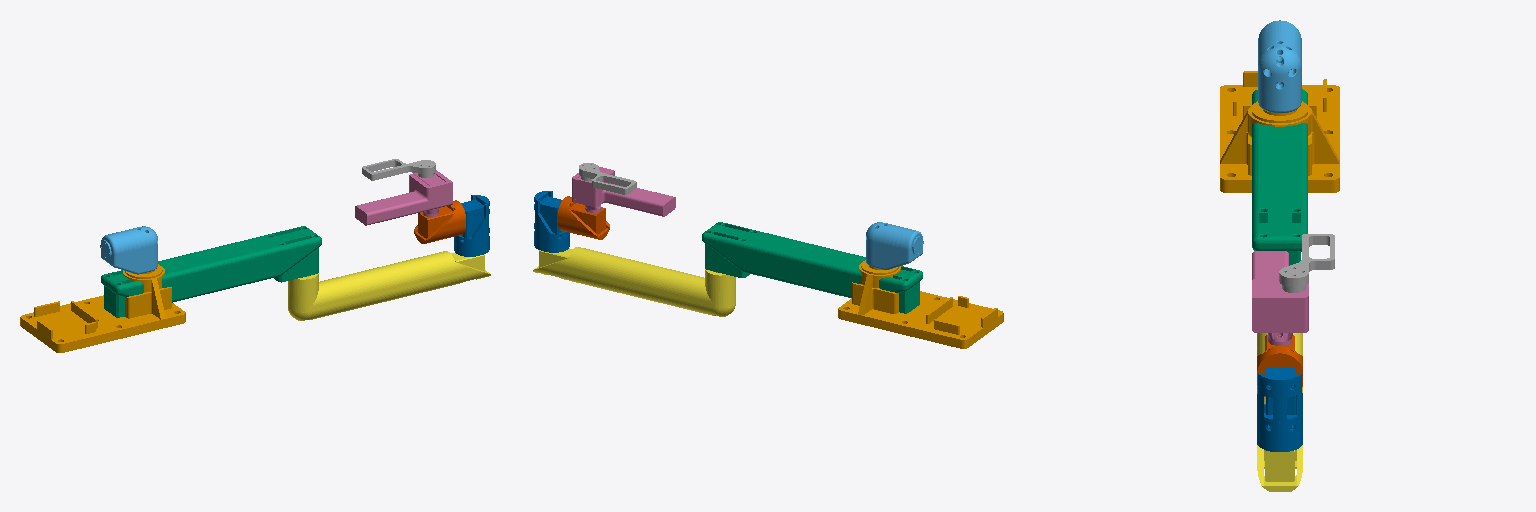
robot.urdf — GELLO_Assembly_URDF_V4:
<?xml version='1.0' encoding='utf-8'?>
<robot name="GELLO_Assembly_URDF_V4">
    <link name="base_link">
        <inertial>
            <origin xyz="0.012101145839417736 4.5485259978825654e-05 0.012837746339482453" rpy="0.0 0.0 0.0" />
            <mass value="0.1521" />
            <inertia ixx="0.000787615441049584" iyy="0.0026373975037422373" izz="0.0030248527508061783" ixy="2.843446005017187e-06" iyz="-1.23281289165201e-07" ixz="-0.0003208037873725998" />
        </inertial>
        <visual name="base_link_visual">
            <origin xyz="0.0 0.0 0.0" rpy="0.0 0.0 0.0" />
            <geometry>
                <mesh filename="meshes/base_link.stl" scale="0.001 0.001 0.001" />
            </geometry>
        </visual>
        <collision name="base_link_collision">
            <origin xyz="0.0 0.0 0.0" rpy="0.0 0.0 0.0" />
            <geometry>
                <mesh filename="meshes/base_link.stl" scale="0.001 0.001 0.001" />
            </geometry>
        </collision>
    </link>
    <link name="link_1">
        <inertial>
            <origin xyz="-0.013013992085734394 -2.9083198717770166e-09 0.037938028629702227" rpy="0.0 -0.0 0.0" />
            <mass value="0.01753" />
            <inertia ixx="2.082359703239737e-05" iyy="3.448540701715534e-05" izz="2.4147887405375526e-05" ixy="2.1787401641000033e-12" iyz="2.850834935600783e-12" ixz="5.385388631231556e-06" />
        </inertial>
        <visual name="link_1_visual">
            <origin xyz="0.0 -1.4901160552385793e-10 0.003000000000000016" rpy="0.0 0.0 3.141592653589793" />
            <geometry>
                <mesh filename="meshes/link_1.stl" scale="0.001 0.001 0.001" />
            </geometry>
        </visual>
        <collision name="link_1_collision">
            <origin xyz="0.0 -1.4901160552385793e-10 0.003000000000000016" rpy="0.0 0.0 3.141592653589793" />
            <geometry>
                <mesh filename="meshes/link_1.stl" scale="0.001 0.001 0.001" />
            </geometry>
        </collision>
    </link>
    <link name="link_2">
        <inertial>
            <origin xyz="0.018566 0.000228 0.106619" rpy="0.0 0.0 0.0" />
            <mass value="0.2561" />
            <inertia ixx="0.00072658" iyy="0.00072119" izz="0.00002389" ixy="3.0308e-11" iyz="7.4196e-10" ixz="8.4992e-09" />
        </inertial>
        <visual name="link_2_visual">
            <origin xyz="0.0 0.0 0.0" rpy="0.0 0.0 0.0" />
            <geometry>
                <mesh filename="meshes/link_2.stl" scale="0.001 0.001 0.001" />
            </geometry>
        </visual>
        <collision name="link_2_collision">
            <origin xyz="0.0 0.0 0.0" rpy="0.0 0.0 0.0" />
            <geometry>
                <mesh filename="meshes/link_2.stl" scale="0.001 0.001 0.001" />
            </geometry>
        </collision>
    </link>
    <link name="link_3">
        <inertial>
            <origin xyz="0.03498 0.00004 0.09722" rpy="0.0 -0.0 0.0" />
            <mass value="0.1353" />
            <inertia ixx="4.9520295199053895e-05" iyy="0.0009354156941928371" izz="0.0009224302501060419" ixy="9.739796322637425e-12" iyz="4.64531374715958e-12" ixz="4.658704784609412e-05" />
        </inertial>
        <visual name="link_3_visual">
            <origin xyz="-0.015499997823088344 -1.7002665094779935e-09 -0.0029875020980838093" rpy="-3.141592653589793 -1.5707963267948515 0" />
            <geometry>
                <mesh filename="meshes/link_3.stl" scale="0.001 0.001 0.001" />
            </geometry>
        </visual>
        <collision name="link_3_collision">
            <origin xyz="-0.015499997823088344 -1.7002665094779935e-09 -0.0029875020980838093" rpy="-3.141592653589793 -1.5707963267948515 0" />
            <geometry>
                <mesh filename="meshes/link_3.stl" scale="0.001 0.001 0.001" />
            </geometry>
        </collision>
    </link>
    <link name="link_4">
        <inertial>
            <origin xyz="-0.02792 0.00055 -0.00109" rpy="0.0 -0.0 0.0" />
            <mass value="0.0412" />
            <inertia ixx="8.049280542402338e-06" iyy="8.75573800759779e-06" izz="5.206051461461615e-06" ixy="-3.4985580162627234e-09" iyz="-6.68345152036845e-09" ixz="1.9006323134412092e-06" />
        </inertial>
        <visual name="link_4_visual">
            <origin xyz="2.2236167041000952e-09 1.0978169125673566e-09 -0.002999996757507506" rpy="3.141592653589793 0.0 -3.141592653589793" />
            <geometry>
                <mesh filename="meshes/link_4.stl" scale="0.001 0.001 0.001" />
            </geometry>
        </visual>
        <collision name="link_4_collision">
            <origin xyz="2.2236167041000952e-09 1.0978169125673566e-09 -0.002999996757507506" rpy="3.141592653589793 0.0 -3.141592653589793" />
            <geometry>
                <mesh filename="meshes/link_4.stl" scale="0.001 0.001 0.001" />
            </geometry>
        </collision>
    </link>
    <link name="link_5">
        <inertial>
            <origin xyz="-0.00091 -0.00014 -0.02400" rpy="0.0 -0.0 0.0" />
            <mass value="0.037" />
            <inertia ixx="3.884188355088219e-06" iyy="5.536825704307441e-06" izz="5.4132040911564205e-06" ixy="-7.289609411581798e-10" iyz="3.1536803261461124e-10" ixz="1.2484568117079393e-06" />
        </inertial>
        <visual name="link_5_visual">
            <origin xyz="-0.0029999977763846887 1.097816903963128e-09 2.512335690596501e-09" rpy="0.0 1.5707963267948966 0" />
            <geometry>
                <mesh filename="meshes/link_5.stl" scale="0.001 0.001 0.001" />
            </geometry>
        </visual>
        <collision name="link_5_collision">
            <origin xyz="-0.0029999977763846887 1.097816903963128e-09 2.512335690596501e-09" rpy="0.0 1.5707963267948966 0" />
            <geometry>
                <mesh filename="meshes/link_5.stl" scale="0.001 0.001 0.001" />
            </geometry>
        </collision>
    </link>
    <link name="link_6_handle">
        <inertial>
            <origin xyz="-0.02576 -0.00154 -0.01597" rpy="0.0 -0.0 0.0" />
            <mass value="0.0482" />
            <inertia ixx="7.78472573563041e-06" iyy="5.6204200329076914e-05" izz="5.8573253048420024e-05" ixy="3.184567679556454e-06" iyz="9.380338618386974e-08" ixz="1.924028926184084e-06" />
        </inertial>
        <visual name="link_6_handle_visual">
            <origin xyz="-0.009999998074407372 -0.001999999244909985 -0.027499997681379087" rpy="3.141592653589793 0.0 1.5707963267948968" />
            <geometry>
                <mesh filename="meshes/link_6_handle.stl" scale="0.001 0.001 0.001" />
            </geometry>
        </visual>
        <collision name="link_6_handle_collision">
            <origin xyz="-0.009999998074407372 -0.001999999244909985 -0.027499997681379087" rpy="3.141592653589793 0.0 1.5707963267948968" />
            <geometry>
                <mesh filename="meshes/link_6_handle.stl" scale="0.001 0.001 0.001" />
            </geometry>
        </collision>
    </link>
    <link name="link_7_trigger">
        <inertial>
            <origin xyz="-0.008247223911074358 0.0078024108281084 -0.02009706810131938" rpy="0.0 -0.0 0.0" />
            <mass value="0.01" />
            <inertia ixx="4.999616537776233e-06" iyy="4.199309723437305e-06" izz="8.93301210709044e-07" ixy="2.1985308491140646e-08" iyz="1.2021398752401404e-06" ixz="-5.662878198282135e-08" />
        </inertial>
        <visual name="link_7_trigger_visual">
            <origin xyz="-0.007999997681379174 -7.550898972752407e-10 1.9851977839380197e-09" rpy="1.5707963267948717 -1.5707963267948966 0" />
            <geometry>
                <mesh filename="meshes/link_7_trigger.stl" scale="0.001 0.001 0.001" />
            </geometry>
        </visual>
        <collision name="link_7_trigger_collision">
            <origin xyz="-0.007999997681379174 -7.550898972752407e-10 1.9851977839380197e-09" rpy="1.5707963267948717 -1.5707963267948966 0" />
            <geometry>
                <mesh filename="meshes/link_7_trigger.stl" scale="0.001 0.001 0.001" />
            </geometry>
        </collision>
    </link>
    <joint name="base_link_joint_1" type="revolute">
        <origin xyz="0.04725 0.0 0.033" rpy="0.0 -0.0 0.0" />
        <parent link="base_link" />
        <child link="link_1" />
        <axis xyz="0.0 0.0 1.0" />
        <limit lower="-3.14159" upper="3.14159" effort="1.0" velocity="10" />
    </joint>
    <joint name="link_2_joint_2" type="revolute">
        <origin xyz="-0.04109700000000001 8.93885791302459e-05 0.013141463219374261" rpy="-3.141592653589793 -1.5707963267948966 0" />
        <parent link="link_1" />
        <child link="link_2" />
        <axis xyz="0.0 -0.0 -1.0" />
        <limit lower="-3.14159" upper="3.14159" effort="3.5" velocity="10" />
    </joint>
    <joint name="link_2_joint_3" type="revolute">
        <origin xyz="-0.04109700000000001 -1.4208697541456816e-09 0.22629999321937447" rpy="-3.141592653589793 -1.5707963267948966 0" />
        <parent link="link_2" />
        <child link="link_3" />
        <axis xyz="0.0 -0.0 -1.0" />
        <limit lower="-3.14159" upper="3.14159" effort="3.5" velocity="10" />
    </joint>
    <joint name="link_3_joint_4" type="revolute">
        <origin xyz="0.19610000999999996 0.0 -0.025975" rpy="3.141592653589793 0.0 -0.0" />
        <parent link="link_3" />
        <child link="link_4" />
        <axis xyz="0.0 0.0 -1.0" />
        <limit lower="-3.14159" upper="3.14159" effort="1.0" velocity="10" />
    </joint>
    <joint name="link_4_joint_5" type="revolute">
        <origin xyz="-0.01239999999999995 0.0 -0.0425" rpy="0.0 0.0 -0.0" />
        <parent link="link_4" />
        <child link="link_5" />
        <axis xyz="-1.0 0.0 -0.0" />
        <limit lower="-3.14159" upper="3.14159" effort="1.0" velocity="10" />
    </joint>
    <joint name="link_5_joint_6" type="revolute">
        <origin xyz="-0.035500000000000045 0.0 -0.012000000000000002" rpy="0.0 -0.0 0.0" />
        <parent link="link_5" />
        <child link="link_6_handle" />
        <axis xyz="-0.0 -0.0 -1.0" />
        <limit lower="-3.14159" upper="3.14159" effort="1.0" velocity="10" />
    </joint>
    <joint name="link_6_handle_gripper" type="revolute">
        <origin xyz="0.0 -0.0095 -0.03899999999999999" rpy="-3.141592653589793 -1.5707963267948966 0" />
        <parent link="link_6_handle" />
        <child link="link_7_trigger" />
        <axis xyz="-1.0 0.0 -0.0" />
        <limit lower="-3.14159" upper="3.14159" effort="1.0" velocity="10" />
    </joint>
</robot>

--- Facts derived from the render (not from the file) ---
3 views of the same robot in one strip: view 1: azimuth 30°, elevation 25°; view 2: azimuth 150°, elevation 25°; view 3: azimuth 270°, elevation 25° (orthographic).
Model GELLO_Assembly_URDF_V4 with 8 links and 7 joints (7 revolute), rooted at base_link, posed every joint at zero.
Visible links, largest first — view 1: link_2, link_3, base_link, link_6_handle, link_1, link_4, link_5, link_7_trigger; view 2: link_2, link_3, base_link, link_1, link_6_handle, link_4, link_5, link_7_trigger; view 3: base_link, link_2, link_6_handle, link_1, link_4, link_3, link_7_trigger, link_5.
Link boxes in pixels (x1=…): link_2: x1=101, y1=226, x2=321, y2=317; link_3: x1=288, y1=251, x2=490, y2=320; base_link: x1=20, y1=264, x2=185, y2=352; link_6_handle: x1=355, y1=170, x2=452, y2=225; link_1: x1=100, y1=226, x2=157, y2=274; link_4: x1=454, y1=195, x2=489, y2=256; link_5: x1=414, y1=200, x2=465, y2=243; link_7_trigger: x1=362, y1=159, x2=435, y2=180; link_2: x1=702, y1=222, x2=922, y2=313; link_3: x1=533, y1=247, x2=735, y2=316; base_link: x1=838, y1=260, x2=1003, y2=348; link_1: x1=866, y1=222, x2=923, y2=269; link_6_handle: x1=572, y1=166, x2=675, y2=216; link_4: x1=534, y1=191, x2=569, y2=252; link_5: x1=558, y1=196, x2=609, y2=239; link_7_trigger: x1=579, y1=163, x2=636, y2=194; base_link: x1=1220, y1=71, x2=1339, y2=192; link_2: x1=1252, y1=89, x2=1307, y2=265; link_6_handle: x1=1252, y1=251, x2=1308, y2=345; link_1: x1=1258, y1=20, x2=1301, y2=112; link_4: x1=1257, y1=367, x2=1302, y2=451; link_3: x1=1257, y1=333, x2=1302, y2=491; link_7_trigger: x1=1279, y1=234, x2=1334, y2=292; link_5: x1=1257, y1=335, x2=1302, y2=396.
Size in the robot's own frame: 0.5216 by 0.08 by 0.1437 metres.
Meshes: 8 distinct files referenced, 8 mesh visuals loaded (8 binary STL).
